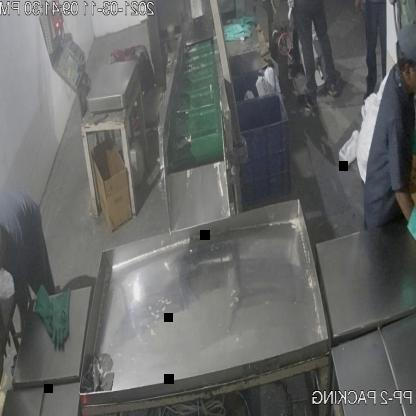no_glove: (0, 264, 19, 362)
